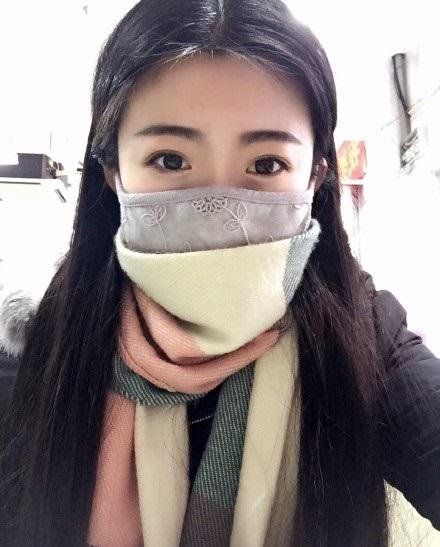OK: (116, 116, 325, 325)
